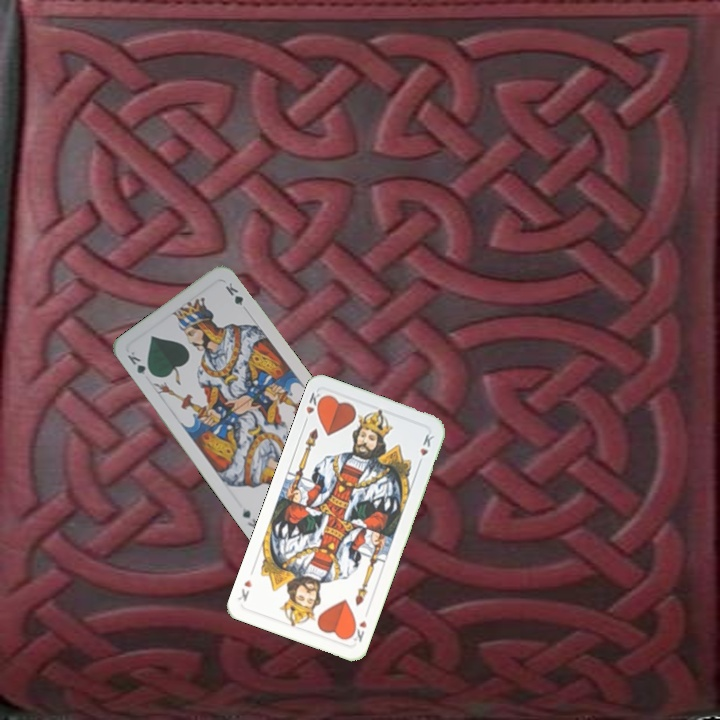GK: (123, 347, 156, 380)
HK: (300, 388, 326, 427), (346, 617, 370, 645)
